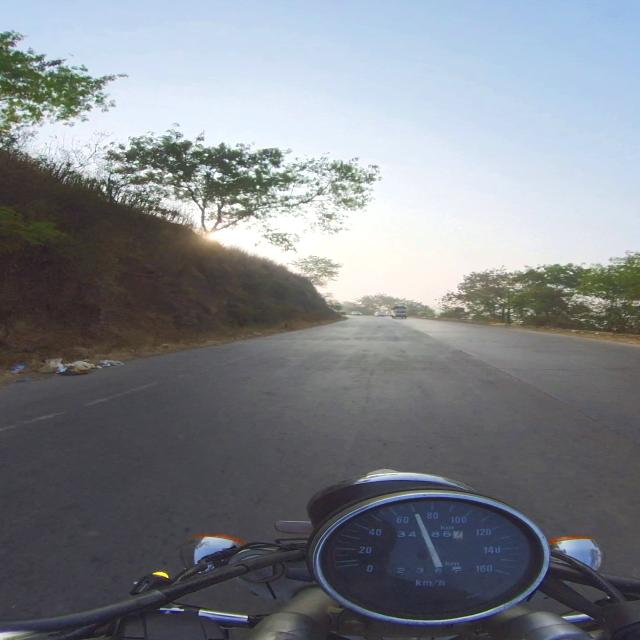car: (375, 312, 386, 316), (351, 312, 362, 315)
motorcycle: (0, 470, 639, 639)
